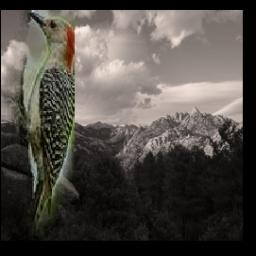Woodpecker: (1, 11, 75, 237)
